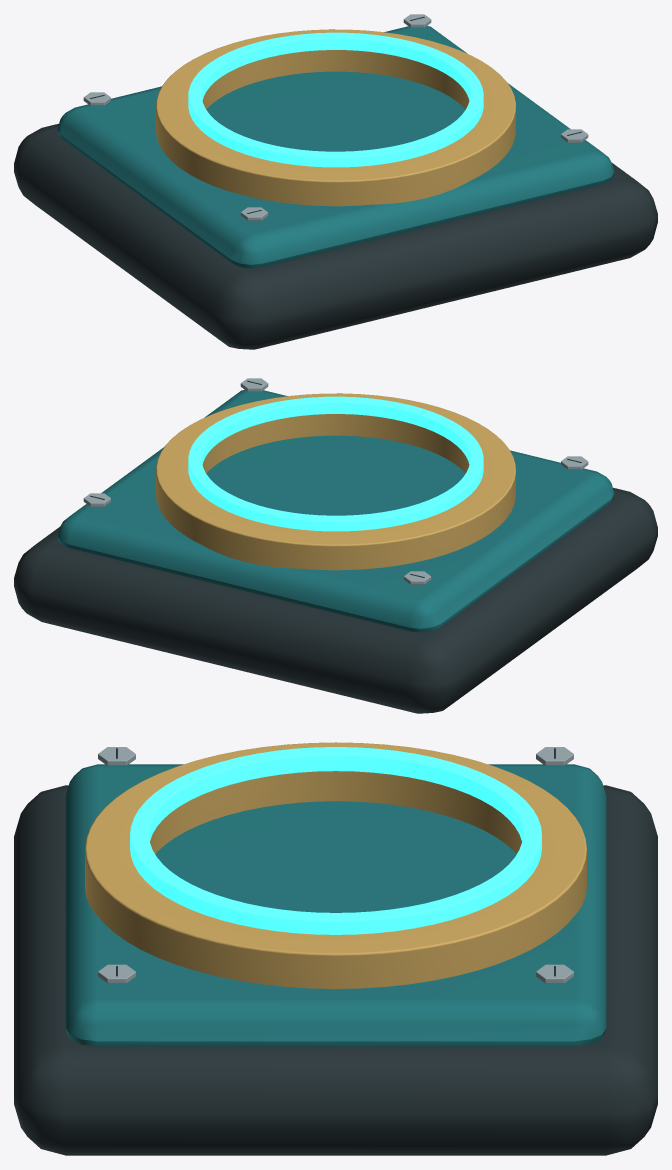
Rendered from SM_VDock.fbx.
3 views of the same model, one above another, from view 1: azimuth 30°, elevation 25°; view 2: azimuth 150°, elevation 25°; view 3: azimuth 270°, elevation 25° (orthographic). The views are drawn at different scales.
Visible parts, largest first — view 1: SM_VDock; view 2: SM_VDock; view 3: SM_VDock.
Boxes of the visible parts, x1,y1,x2,y2 form: SM_VDock: (14,14,657,349); SM_VDock: (14,378,657,713); SM_VDock: (14,742,657,1155).
Size of the model in its own units: 110 by 100 by 32.5.
